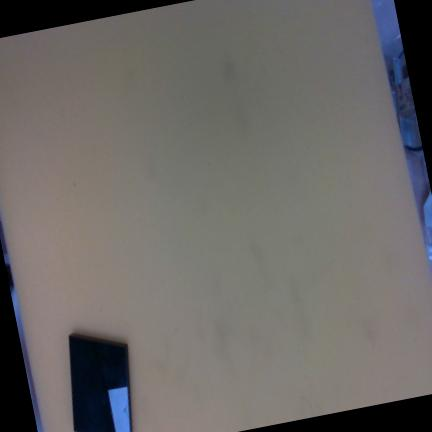tile: (69, 332, 130, 432)
